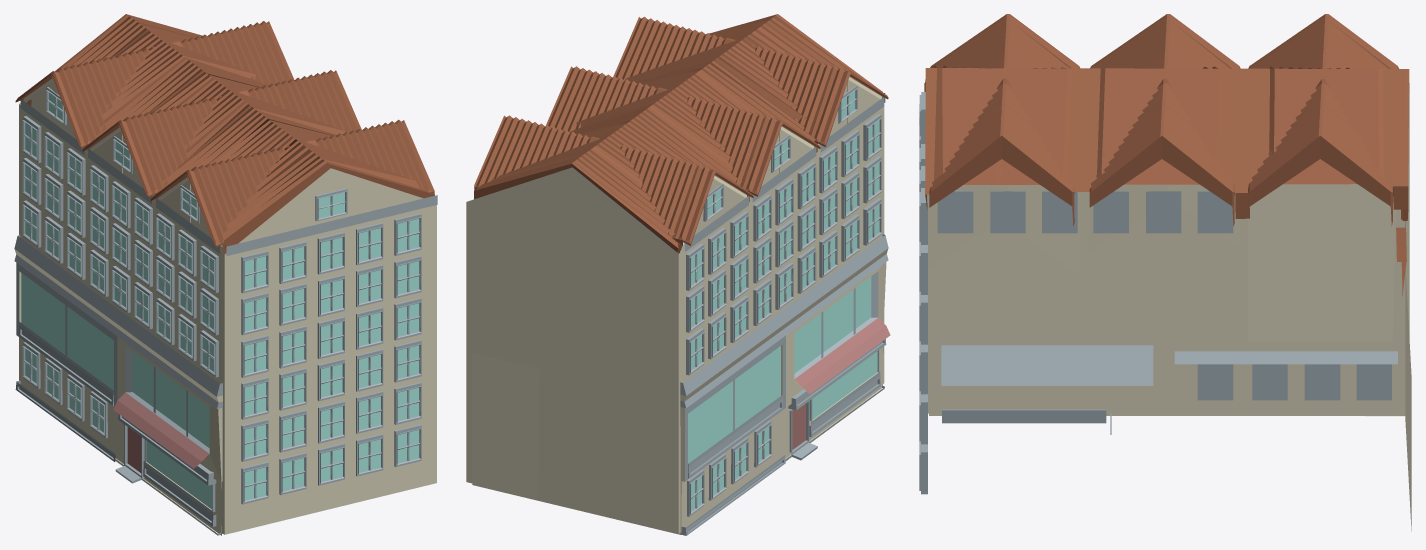
Rendered from building7.fbx.
The picture shows the model from 3 angles, left to right: view 1: azimuth 30°, elevation 25°; view 2: azimuth 150°, elevation 25°; view 3: azimuth 270°, elevation 25°; orthographic projection. The views are drawn at different scales.
Parts seen in each view (by area): view 1: Cube.196; view 2: Cube.196; view 3: Cube.196.
Boxes of the visible parts, <box> form: Cube.196: <box>14,14,437,535</box>; Cube.196: <box>466,14,890,535</box>; Cube.196: <box>919,14,1411,531</box>.
Bounding box in the file's own units: 1611 × 2319 × 2517.
